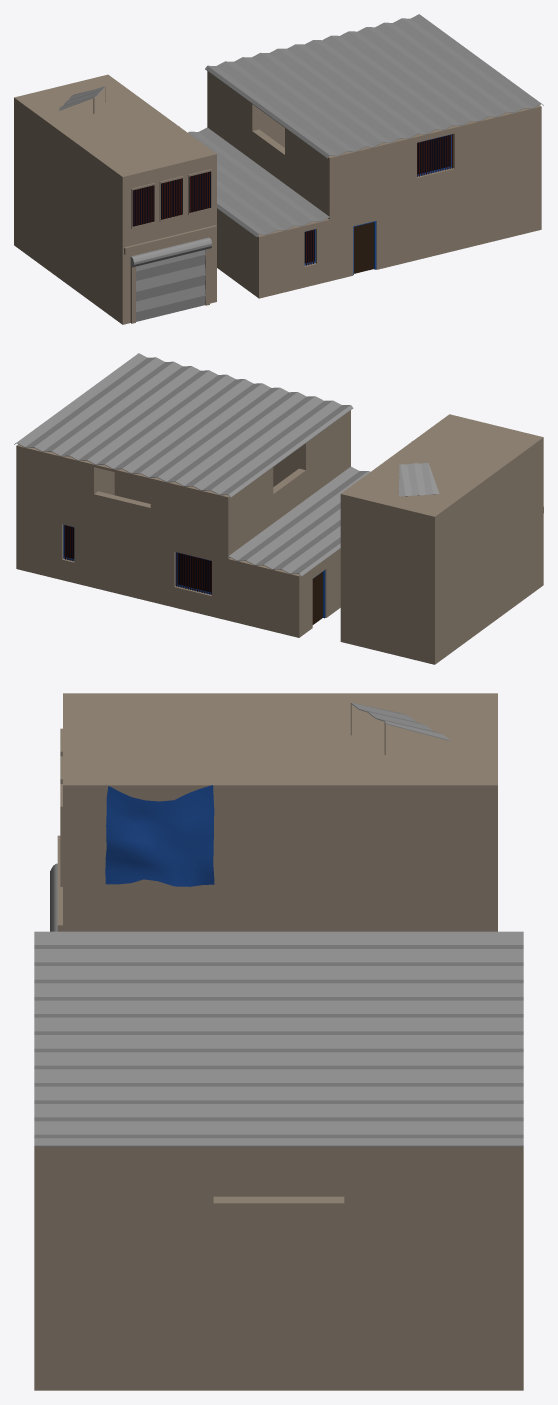
3 views of the same model, one above another, from view 1: azimuth 30°, elevation 25°; view 2: azimuth 150°, elevation 25°; view 3: azimuth 270°, elevation 25° (orthographic). The views are drawn at different scales.
Parts seen in each view (by area): view 1: Building 2, Cube, Plane, Cube.001, Cube.004, Cube.005, Cube.003, Cube.002, Plane.001; view 2: Building 2, Cube, Plane.001; view 3: Building 2, Cube, Plane.002, Plane.001.
Boxes of the visible parts, box(x1,y1,x2,y2) form: Building 2: box(188, 14, 543, 298); Cube: box(14, 74, 216, 324); Plane: box(136, 250, 205, 321); Cube.001: box(130, 237, 212, 323); Cube.004: box(159, 176, 183, 221); Cube.005: box(131, 183, 155, 228); Cube.003: box(188, 169, 211, 215); Cube.002: box(124, 225, 216, 254); Plane.001: box(59, 86, 105, 113); Building 2: box(14, 353, 370, 637); Cube: box(340, 414, 543, 664); Plane.001: box(398, 462, 439, 496); Building 2: box(34, 931, 523, 1390); Cube: box(63, 693, 497, 931); Plane.002: box(105, 785, 214, 886); Plane.001: box(350, 702, 449, 754).
Bounding box in the file's own units: 1759 × 668 × 900.
